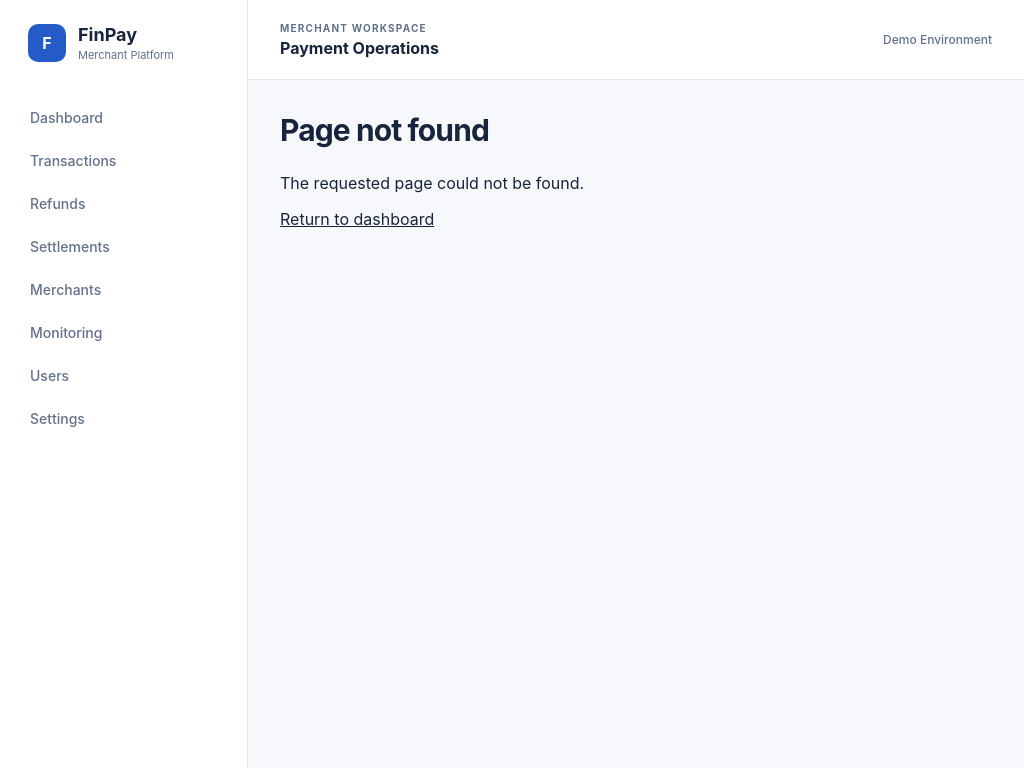
Test: FinPay application routing › displays the 404 page for unknown routes
The image size is (1024, 768).
Expected: the heading "Page not found" is shown, [280,112,489,148]
Click the link "Return to dashboard" at point(357, 219), box [280,209,434,229]
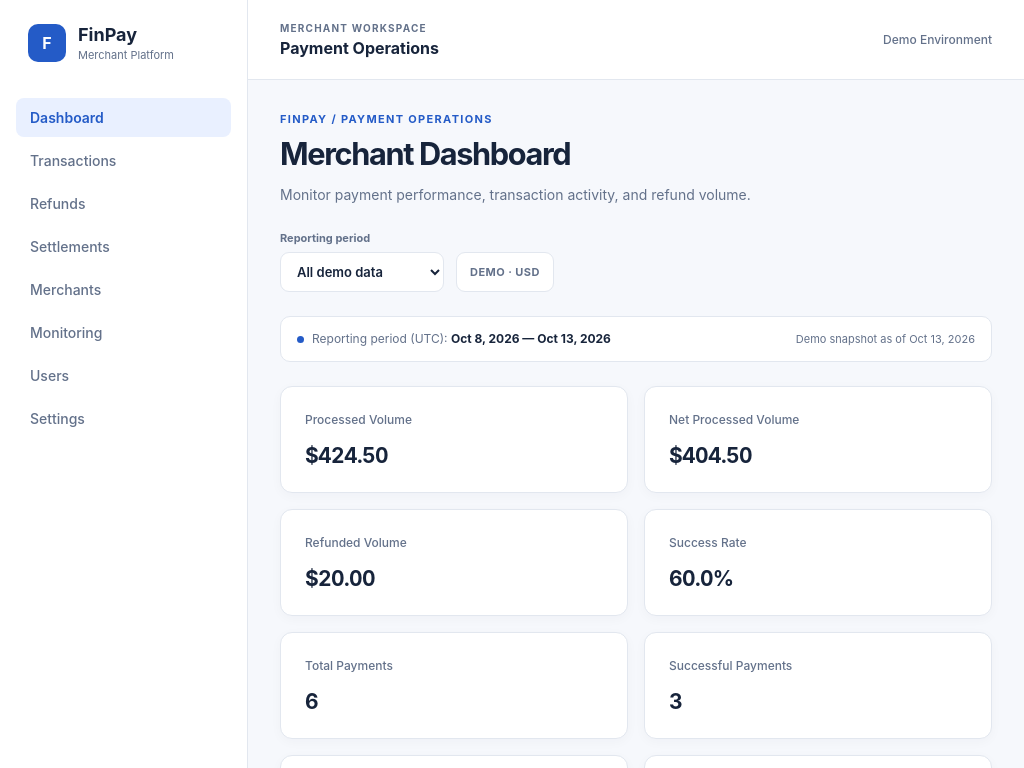
Result: the heading "Merchant Dashboard" is shown at [280,135,570,172]
